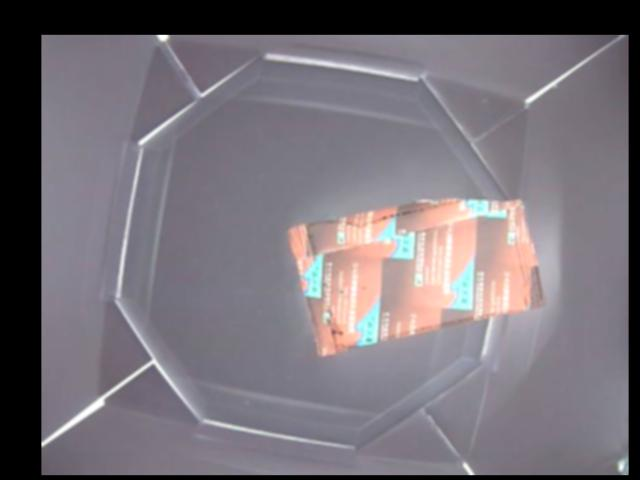Medicine: (286, 195, 547, 354)
